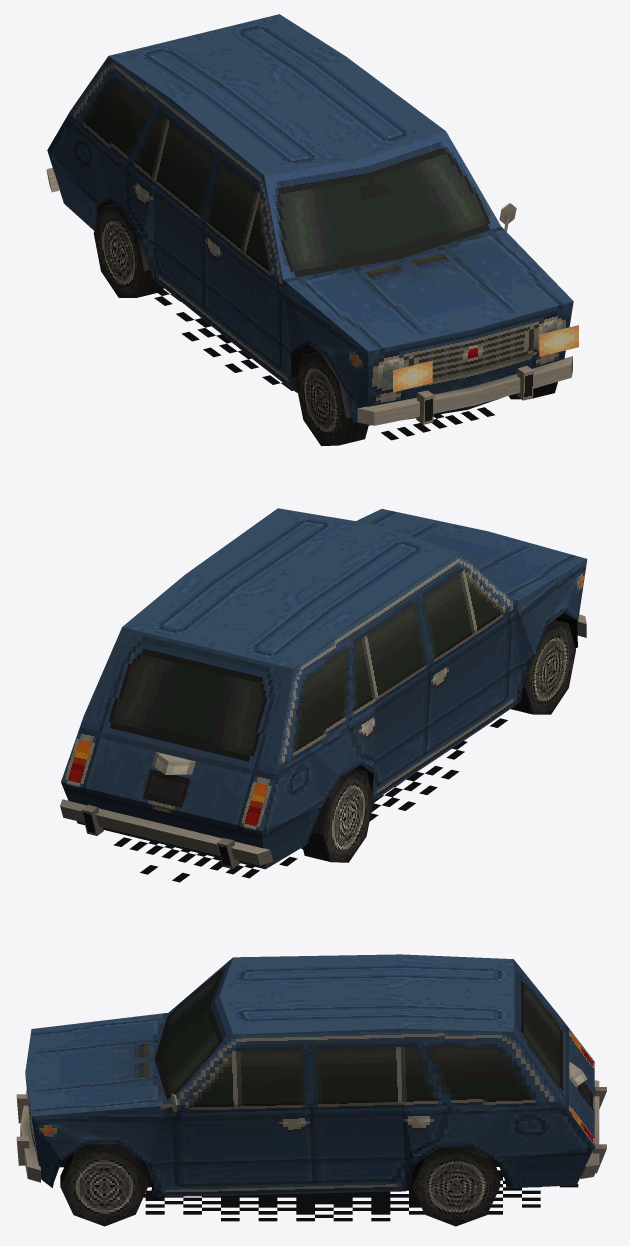
File: hatch_blue.glb
The picture shows the model from 3 angles, top to bottom: view 1: azimuth 30°, elevation 25°; view 2: azimuth 150°, elevation 25°; view 3: azimuth 270°, elevation 25°; orthographic projection. The views are drawn at different scales.
Parts seen in each view (by area): view 1: Body, BlobShadow, Headlight_1, Headlight_-1; view 2: Body, BlobShadow; view 3: Body, BlobShadow.
Part boxes in pixels (x1,y1,x2,y2): Body: (46, 14, 573, 446); BlobShadow: (154, 289, 494, 440); Headlight_1: (539, 325, 578, 356); Headlight_-1: (393, 361, 432, 392); Body: (60, 508, 587, 869); BlobShadow: (113, 718, 507, 882); Body: (16, 954, 606, 1226); BlobShadow: (143, 1166, 578, 1221).
Size of what is drawn, in the model's own units: 1.93 by 1.57 by 4.52.
Materials: 3 (3 with a texture image).
